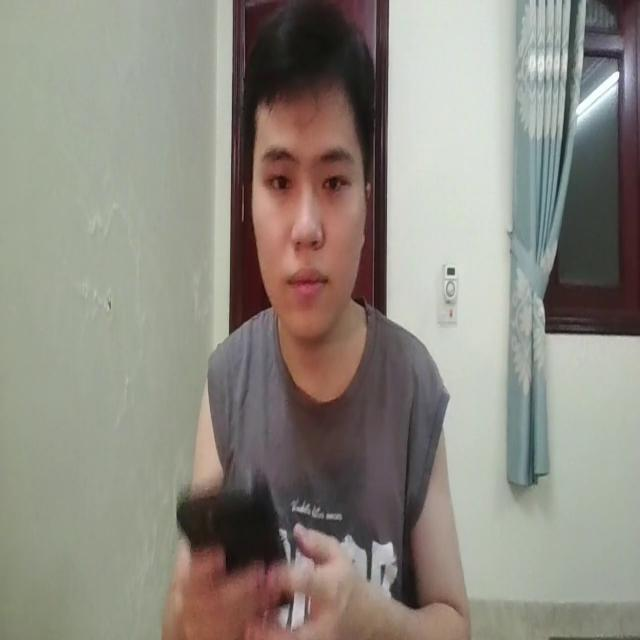phone: (174, 461, 298, 601)
student: (172, 0, 473, 640)
